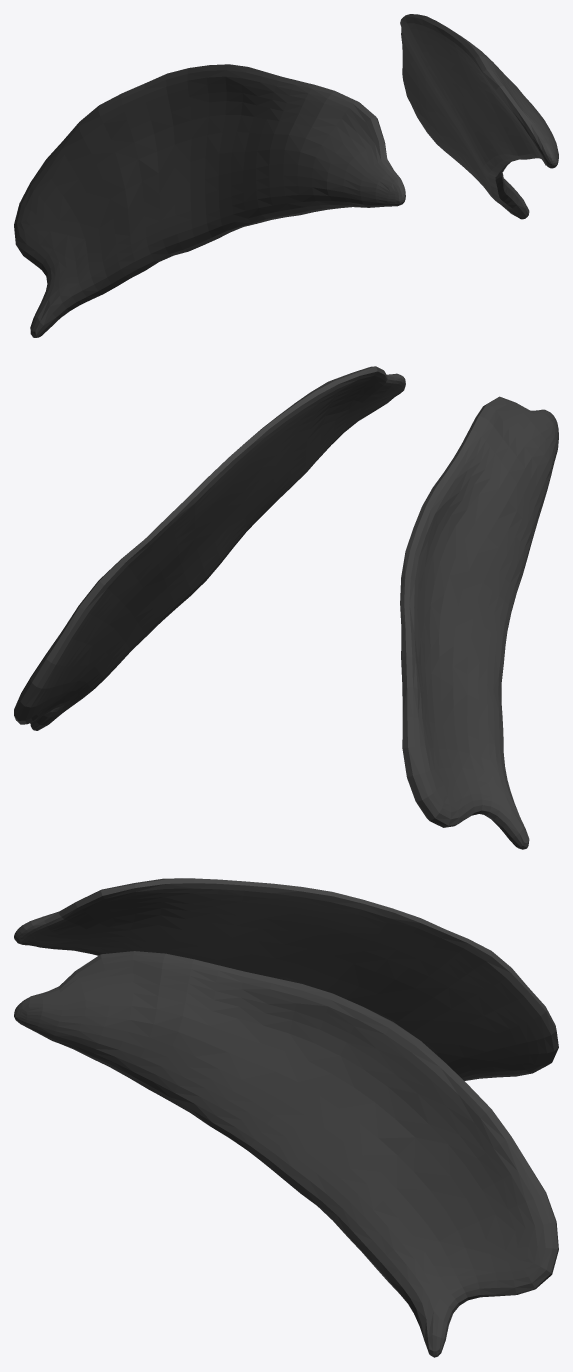
File: cart_scapular_L_LO.glb
3 views of the same model, one above another, from view 1: azimuth 30°, elevation 25°; view 2: azimuth 150°, elevation 25°; view 3: azimuth 270°, elevation 25° (orthographic). The views are drawn at different scales.
Parts seen in each view (by area): view 1: cart_scapular_L_LO; view 2: cart_scapular_L_LO; view 3: cart_scapular_L_LO.
Boxes of the visible parts, box(x1,y1,x2,y2) form: cart_scapular_L_LO: box(14, 14, 558, 337); cart_scapular_L_LO: box(14, 366, 558, 849); cart_scapular_L_LO: box(14, 878, 558, 1357).
Bounding box in the file's own units: 0.00269 × 0.00154 × 0.00242.
1 material, 1 textured.
